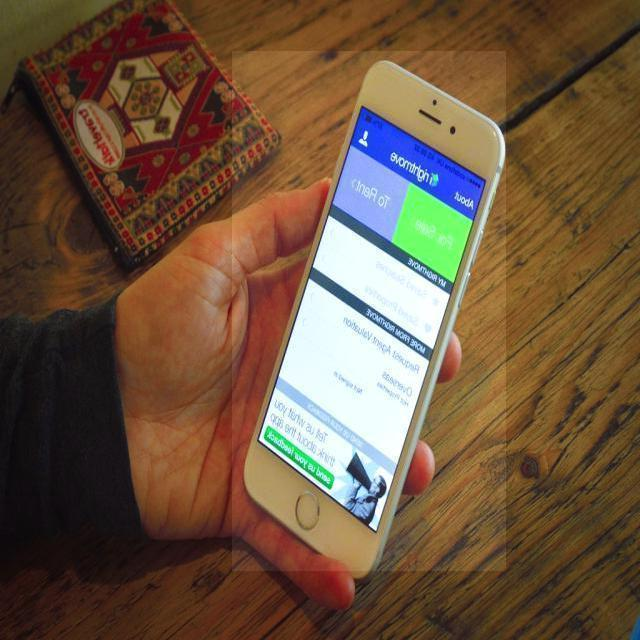mobile: (232, 52, 506, 572)
